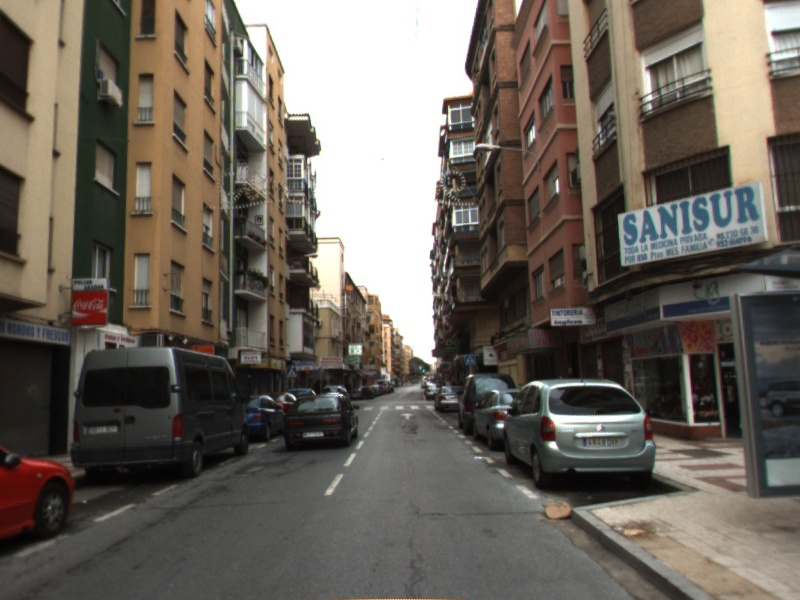STRAIGHT: (398, 411, 417, 421)
